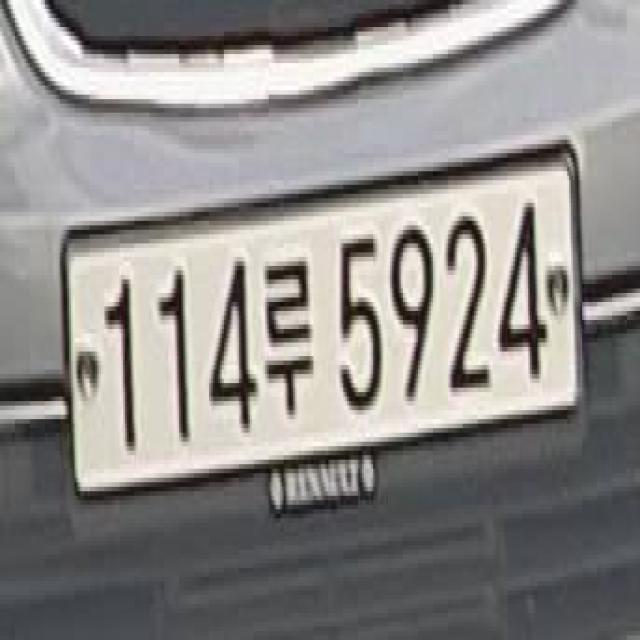illegal_plate: (59, 137, 590, 526)
